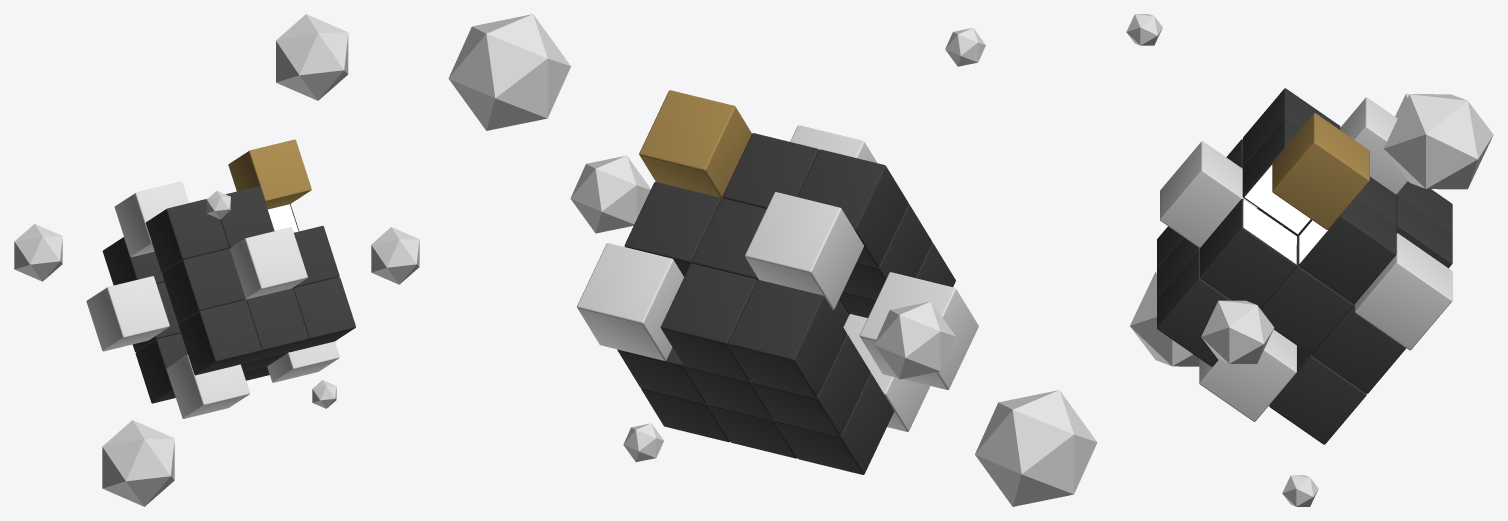
The model's file is modelDraco7.gltf.
The picture shows the model from 3 angles, left to right: view 1: azimuth 30°, elevation 25°; view 2: azimuth 150°, elevation 25°; view 3: azimuth 270°, elevation 25°; orthographic projection. The views are drawn at different scales.
Parts seen in each view (by area): view 1: ChamferBox184, Hedra001.002, Hedra001.004, ChamferBox187, ChamferBox183, ChamferBox182, ChamferBox185, ChamferBox188, Hedra001.001, Hedra001.005, ChamferBox186, Group60444 (+2 smaller); view 2: ChamferBox184, Hedra001.002, Hedra001.004, ChamferBox188, ChamferBox189, ChamferBox182, ChamferBox187, Hedra001.005, Hedra001.001, ChamferBox185, ChamferBox183, Hedra001 (+1 smaller); view 3: ChamferBox184, Hedra001.004, ChamferBox182, ChamferBox189, ChamferBox183, ChamferBox186, Group60444, Hedra001.001, ChamferBox188, Hedra001.002, Hedra001.003, Hedra001.
Part boxes in pixels (x1,y1,x2,y2): ChamferBox184: [102, 186, 355, 403]; Hedra001.002: [102, 420, 174, 506]; Hedra001.004: [276, 14, 348, 100]; ChamferBox187: [86, 276, 169, 351]; ChamferBox183: [230, 227, 307, 299]; ChamferBox182: [228, 139, 311, 209]; ChamferBox185: [166, 354, 249, 418]; ChamferBox188: [114, 181, 188, 257]; Hedra001.001: [371, 227, 419, 284]; Hedra001.005: [14, 224, 62, 281]; ChamferBox186: [267, 341, 339, 382]; Group60444: [268, 204, 298, 232]; ChamferBox184: [617, 133, 955, 474]; Hedra001.002: [975, 390, 1097, 506]; Hedra001.004: [448, 14, 570, 130]; ChamferBox188: [745, 192, 863, 309]; ChamferBox189: [577, 243, 683, 360]; ChamferBox182: [639, 90, 751, 198]; ChamferBox187: [859, 272, 978, 389]; Hedra001.005: [874, 301, 955, 379]; Hedra001.001: [570, 155, 650, 233]; ChamferBox185: [843, 314, 930, 431]; ChamferBox183: [790, 125, 877, 163]; Hedra001: [945, 28, 985, 66]; ChamferBox184: [1157, 88, 1452, 444]; Hedra001.004: [1383, 94, 1493, 189]; ChamferBox182: [1272, 113, 1369, 229]; ChamferBox189: [1355, 233, 1452, 350]; ChamferBox183: [1160, 141, 1257, 247]; ChamferBox186: [1199, 329, 1296, 421]; Group60444: [1243, 165, 1327, 264]; Hedra001.001: [1201, 300, 1274, 363]; ChamferBox188: [1340, 97, 1407, 194]; Hedra001.002: [1130, 271, 1199, 366]; Hedra001.003: [1282, 475, 1318, 506]; Hedra001: [1126, 14, 1162, 45].
Size of the model in its own units: 309 by 298 by 227.
